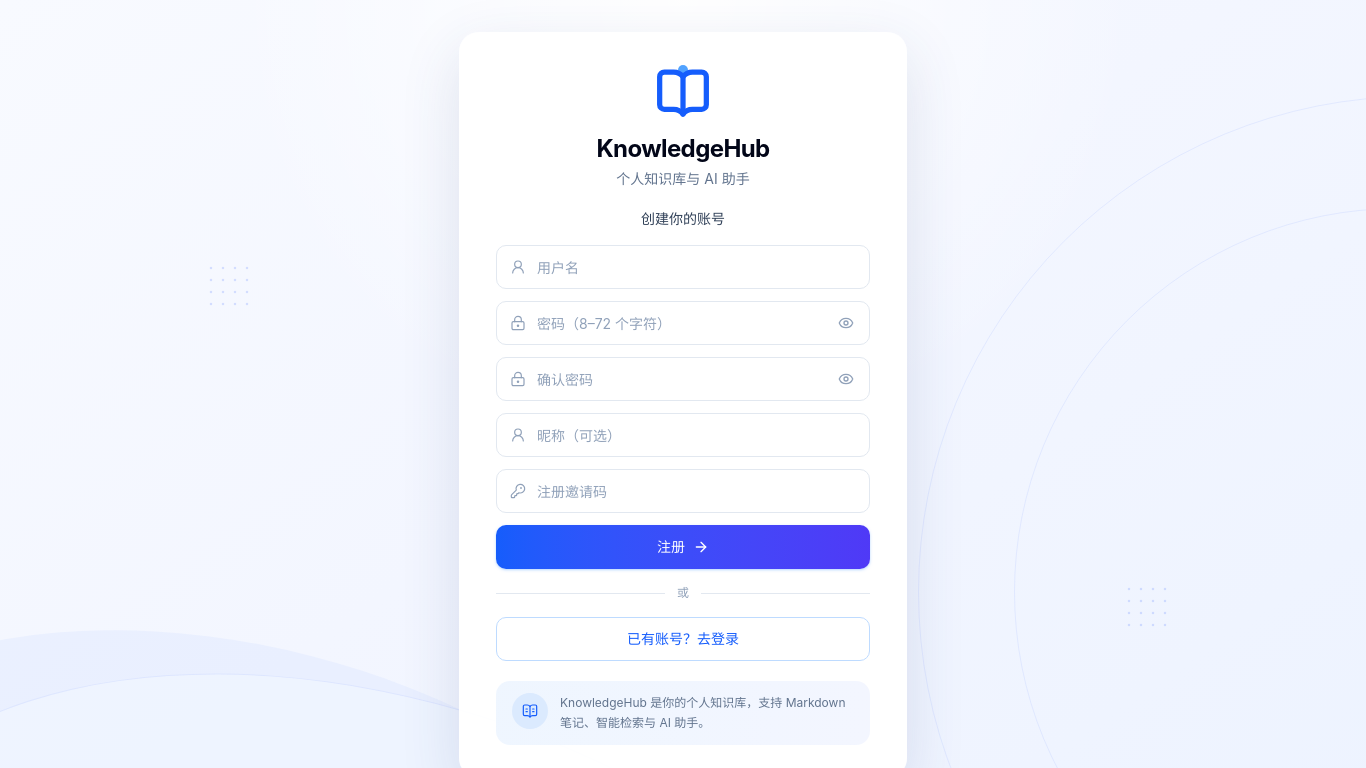
Test: registration flow › toggles password visibility without changing the value
The image size is (1366, 768).
Type "password123" into the password field labelled "密码".
click(683, 323); type("password123")  # box [496, 301, 870, 345]
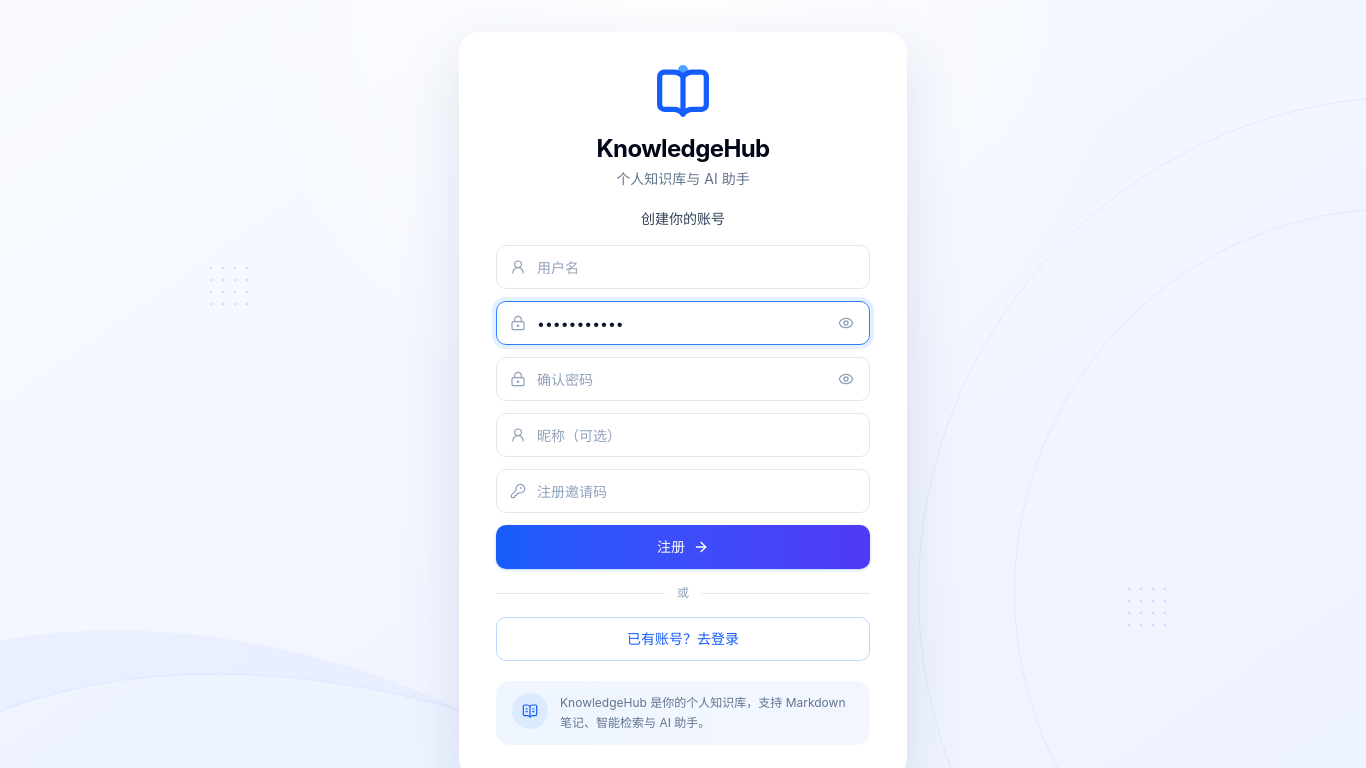
Click the button named "显示密码".
click(846, 323)  # box [830, 307, 862, 339]
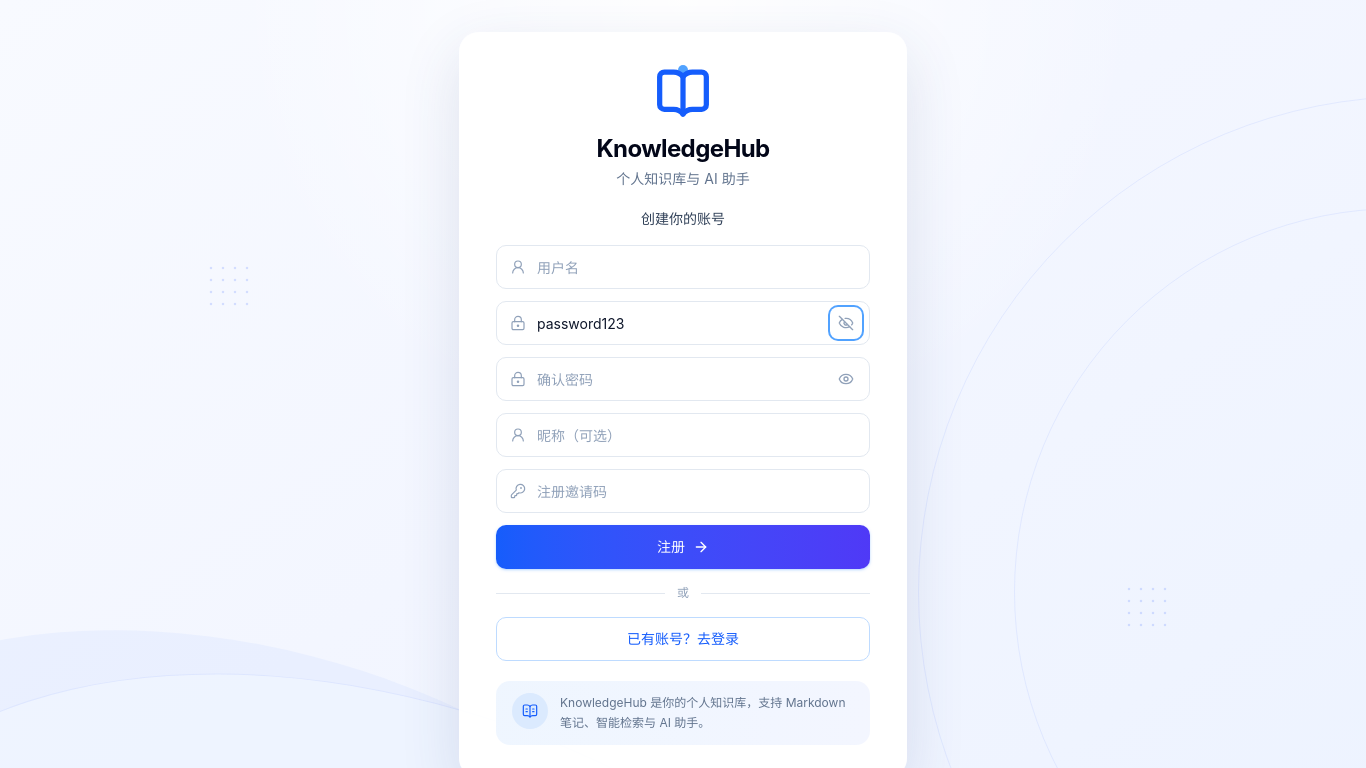
Expected: the field named "密码" shows its text, [496, 301, 870, 345]
